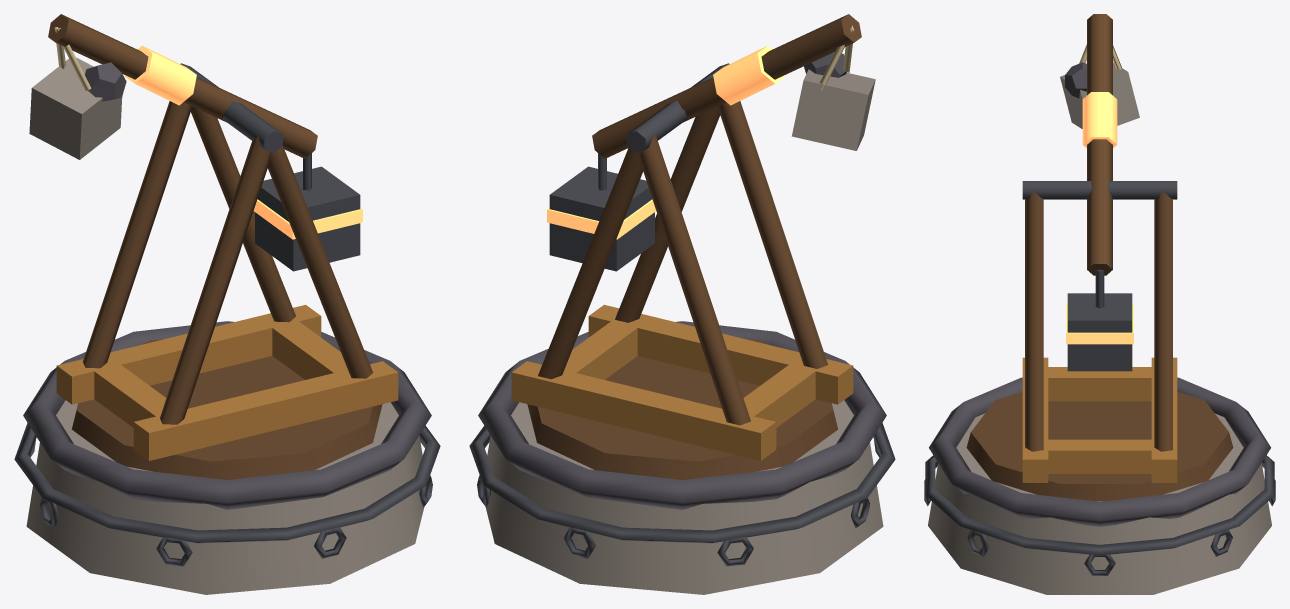
File: tower_catapult_fortressBreaker.glb
3 views of the same model, side by side, from view 1: azimuth 30°, elevation 25°; view 2: azimuth 150°, elevation 25°; view 3: azimuth 270°, elevation 25° (orthographic). The views are drawn at different scales.
Visible parts, largest first — view 1: base, base_rim, turntable, rail_l, rail_r, chain_band, aframe_back_l, aframe_back_r, breaker_block, aframe_front_l, arm_beam, counterweight (+8 smaller); view 2: base, base_rim, turntable, rail_r, rail_l, chain_band, aframe_back_r, aframe_back_l, arm_beam, aframe_front_r, counterweight, breaker_block (+8 smaller); view 3: base, turntable, base_rim, arm_beam, chain_band, aframe_front_l, aframe_front_r, counterweight, cross_e, cross_w, axle, arm_band (+5 smaller).
Boxes of the visible parts, x1,y1,x2,y2 form: base: [26, 400, 424, 594]; base_rim: [23, 321, 431, 509]; turntable: [71, 339, 382, 479]; rail_l: [133, 361, 398, 460]; rail_r: [56, 304, 321, 404]; chain_band: [14, 423, 440, 543]; aframe_back_l: [160, 136, 270, 424]; aframe_back_r: [83, 101, 191, 368]; breaker_block: [29, 57, 122, 159]; aframe_front_l: [268, 145, 372, 378]; arm_beam: [48, 14, 317, 158]; counterweight: [255, 166, 360, 271]; base: [485, 400, 883, 594]; base_rim: [478, 321, 886, 509]; turntable: [527, 339, 838, 479]; rail_r: [511, 361, 776, 460]; rail_l: [588, 304, 853, 404]; chain_band: [469, 423, 895, 543]; aframe_back_r: [637, 134, 750, 425]; aframe_back_l: [717, 101, 827, 368]; arm_beam: [592, 14, 861, 158]; aframe_front_r: [538, 147, 643, 379]; counterweight: [549, 166, 654, 271]; breaker_block: [791, 69, 875, 150]; base: [928, 413, 1271, 594]; turntable: [966, 392, 1233, 501]; base_rim: [929, 377, 1270, 526]; arm_beam: [1087, 14, 1112, 275]; chain_band: [925, 455, 1274, 554]; aframe_front_l: [1025, 191, 1043, 451]; aframe_front_r: [1154, 191, 1172, 451]; counterweight: [1067, 293, 1132, 371]; cross_e: [1022, 439, 1177, 473]; cross_w: [1048, 367, 1151, 401]; axle: [1022, 181, 1177, 199]; arm_band: [1082, 92, 1117, 147].
Bounding box in the file's own units: 0.4225 × 0.5707 × 0.4078.
